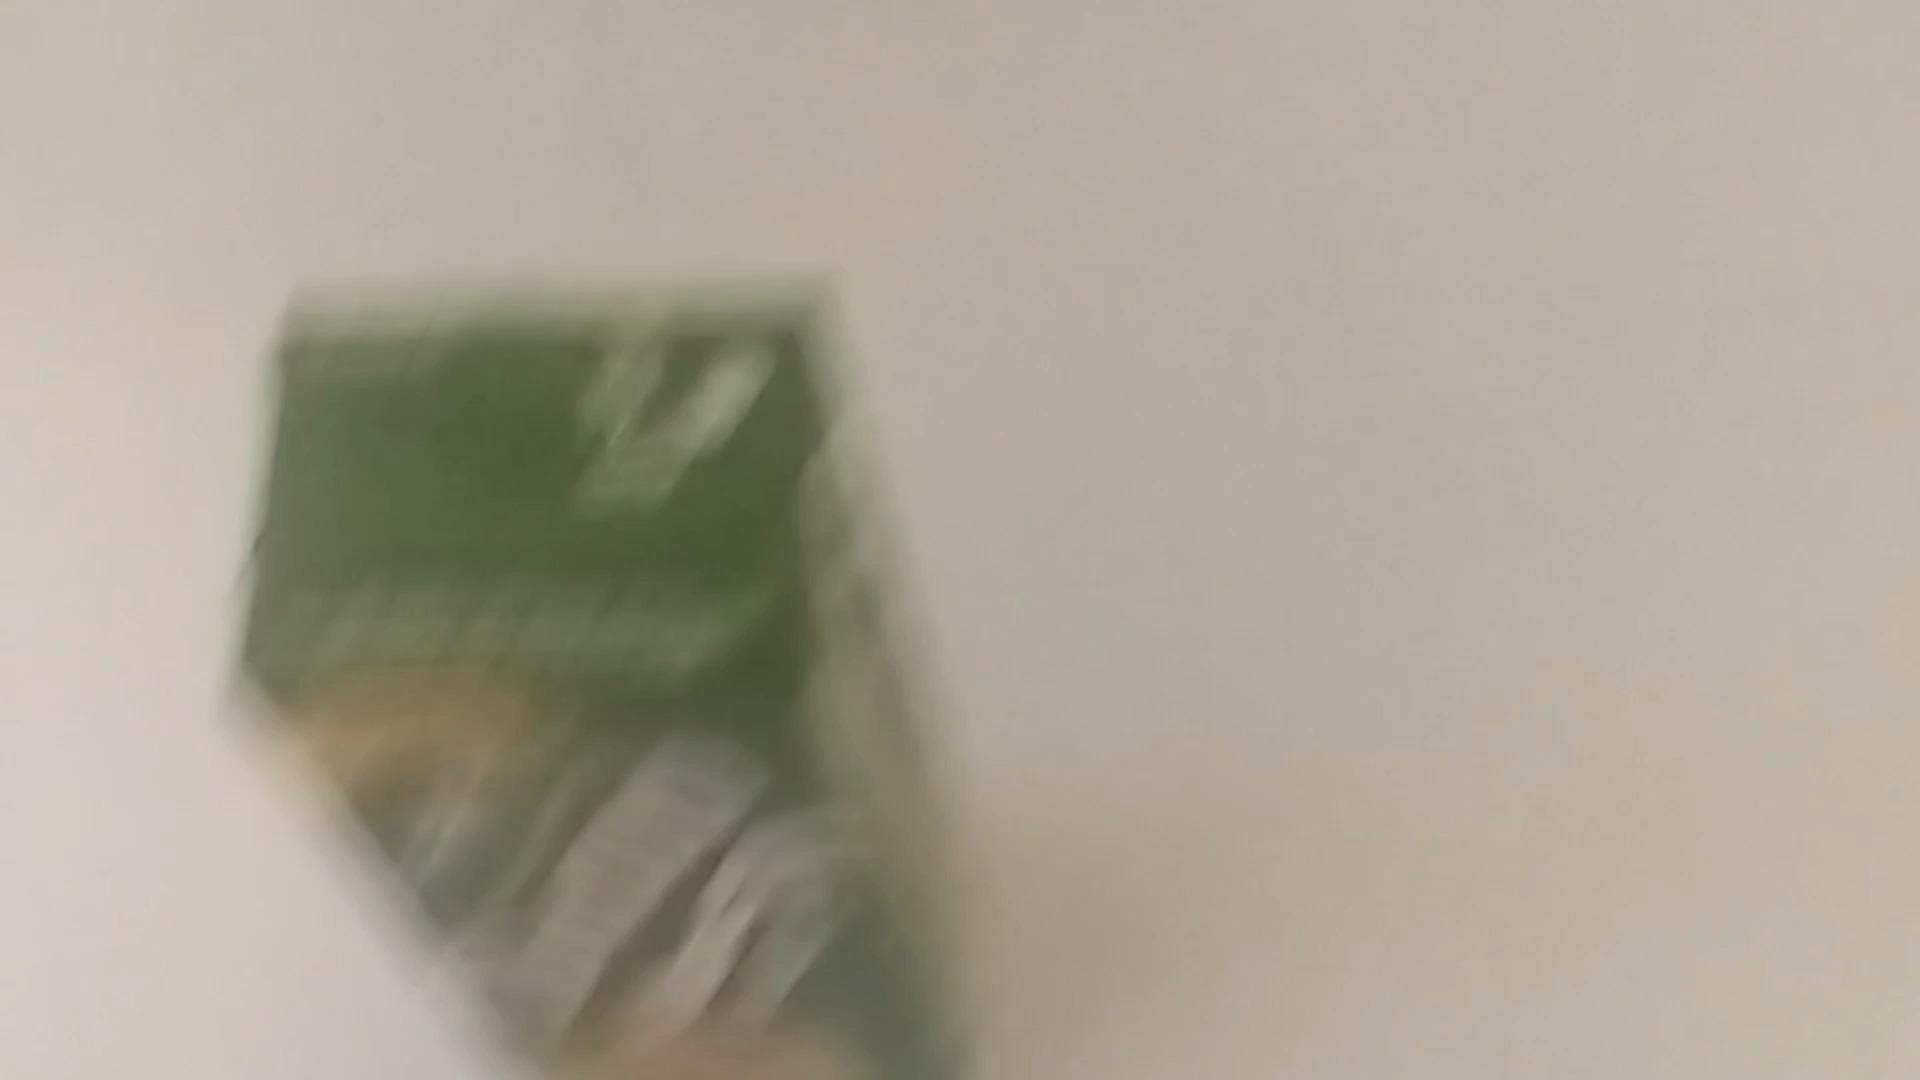coco: (220, 280, 1000, 1080)
